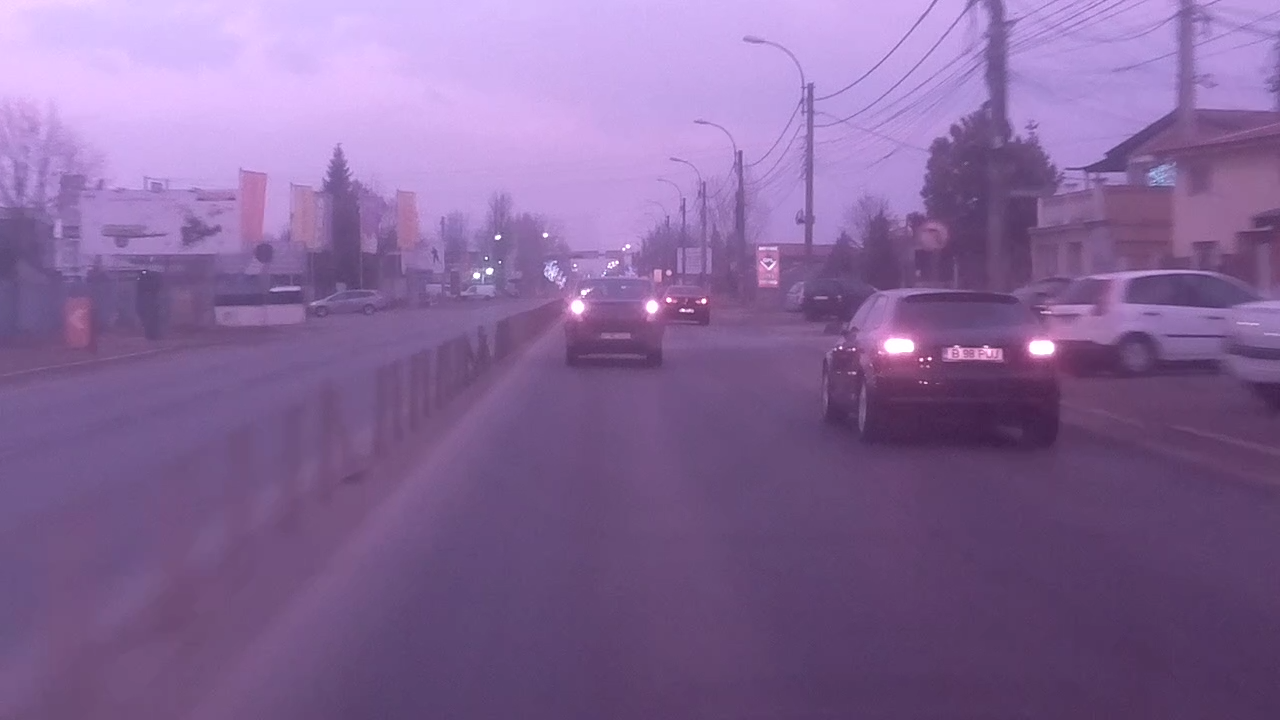license-plate: (937, 345, 1007, 362)
